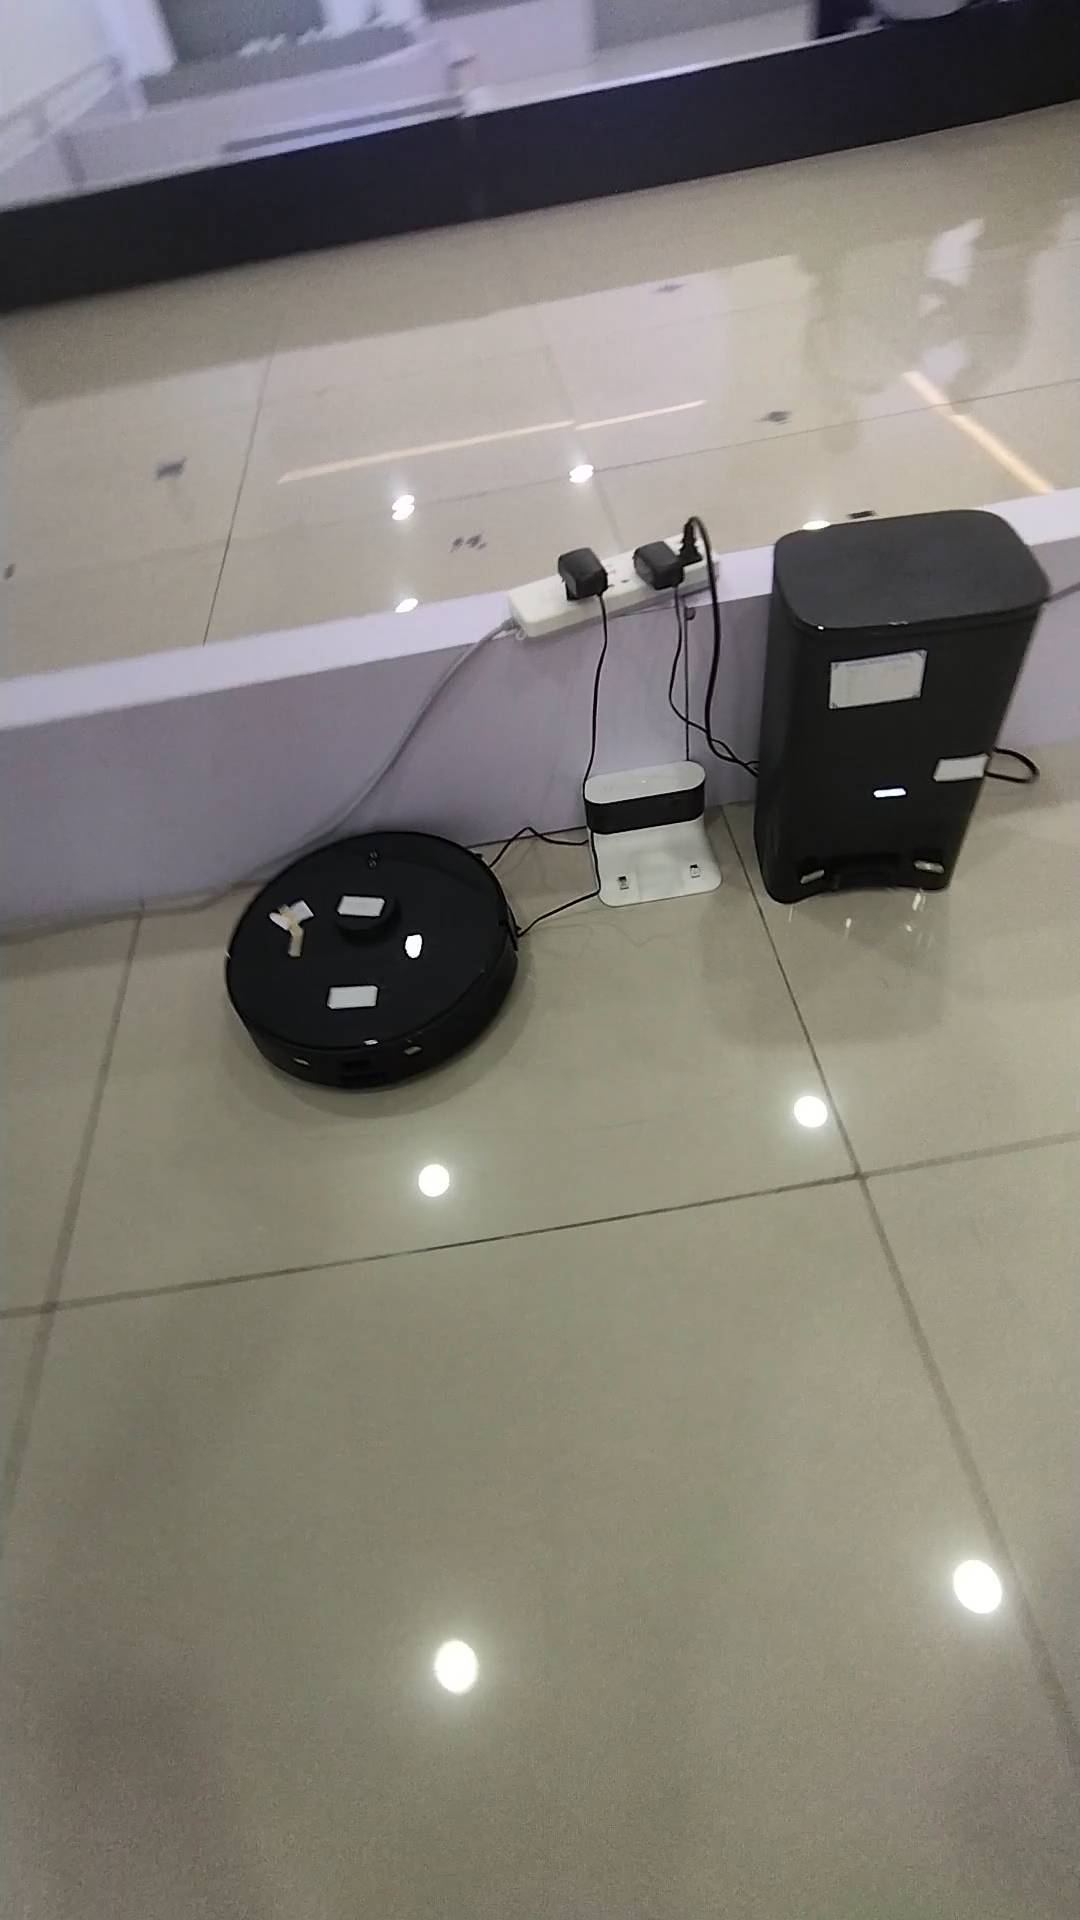dust collecting barrel: (757, 513, 1050, 906)
recharge seat: (582, 764, 735, 906)
